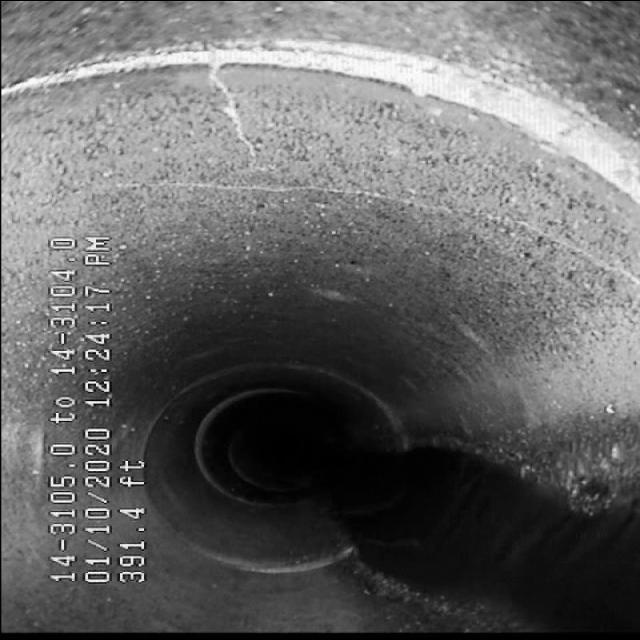Crack: (112, 128, 524, 216)
